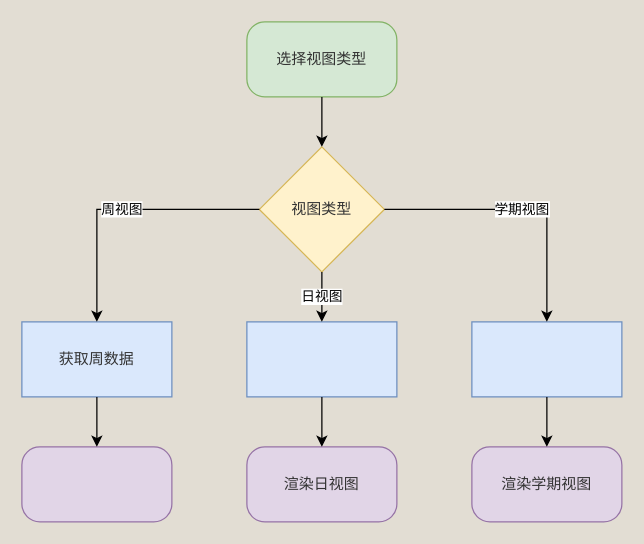
Some shapes in this 644 by 544 pixel diagram are drawn without their labels. The shapes that lost their labels are listed below. From the top down, each one's centre as x and y in pixels, then its label:
[321,359]: 获取日数据
[546,359]: 获取学期数据
[96,484]: 渲染周视图
